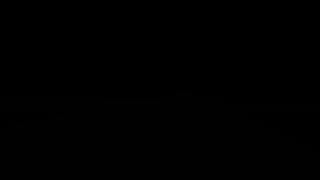go_ahead: (247, 36, 279, 64)
